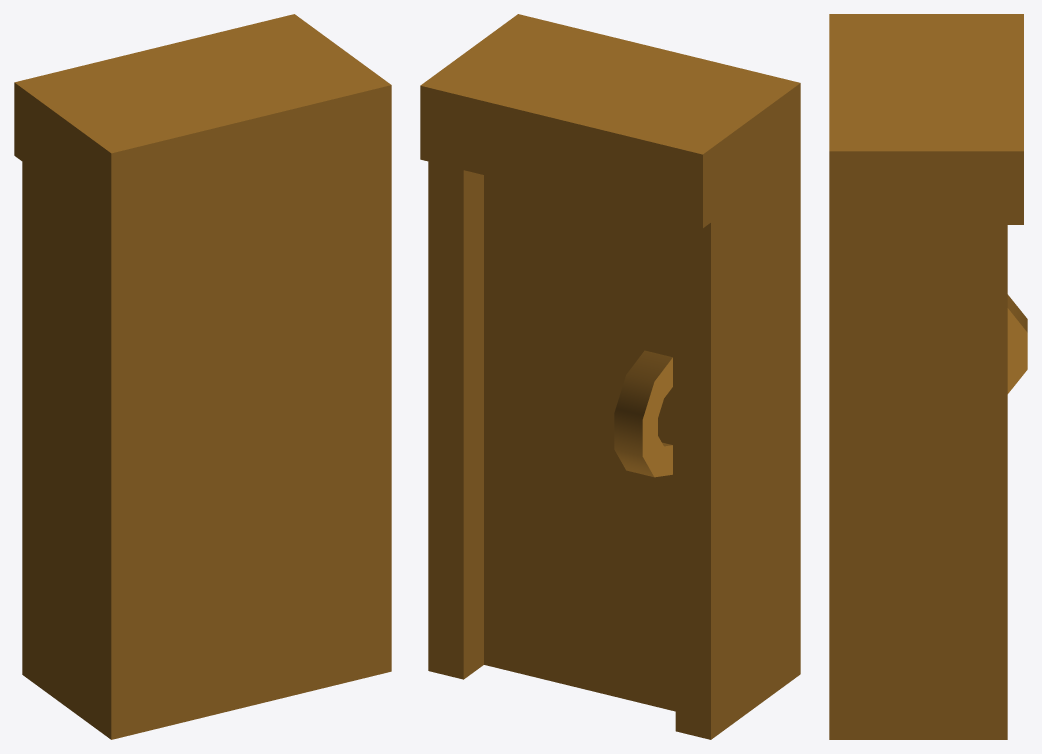
The model's file is house_06.FBX.
The picture shows the model from 3 angles, left to right: view 1: azimuth 30°, elevation 25°; view 2: azimuth 150°, elevation 25°; view 3: azimuth 270°, elevation 25°; orthographic projection.
Visible parts, largest first — view 1: Box008; view 2: Box008; view 3: Box008.
Part boxes in pixels (x1,y1,x2,y2): Box008: (14, 14, 391, 739); Box008: (420, 14, 800, 739); Box008: (829, 14, 1027, 739).
Size of the model in its own units: 21.02 by 42.04 by 12.85.
Materials: 1 (1 with a texture image).
